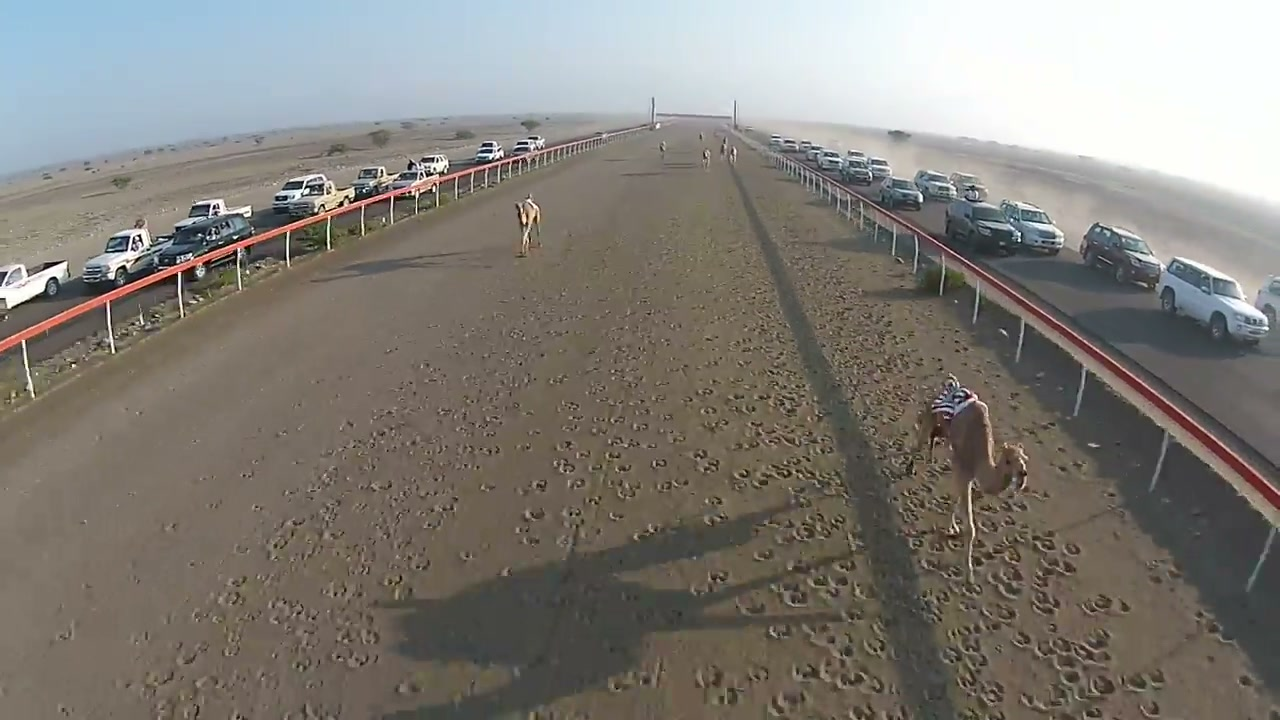animal_foot_print: (120, 162, 1268, 719)
